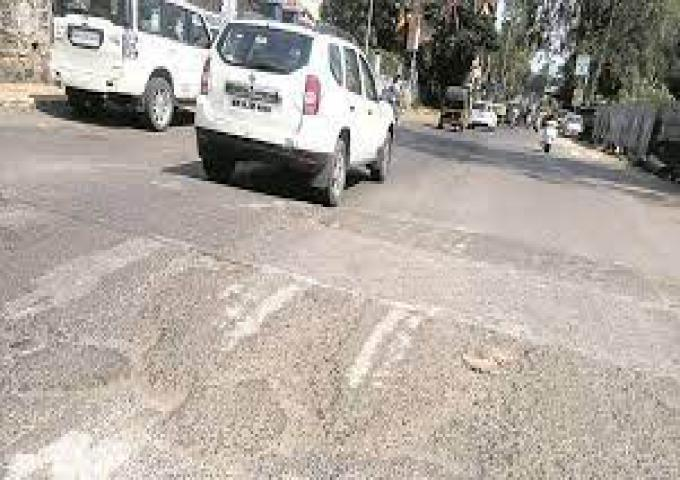speedbreaker: (2, 181, 678, 362)
